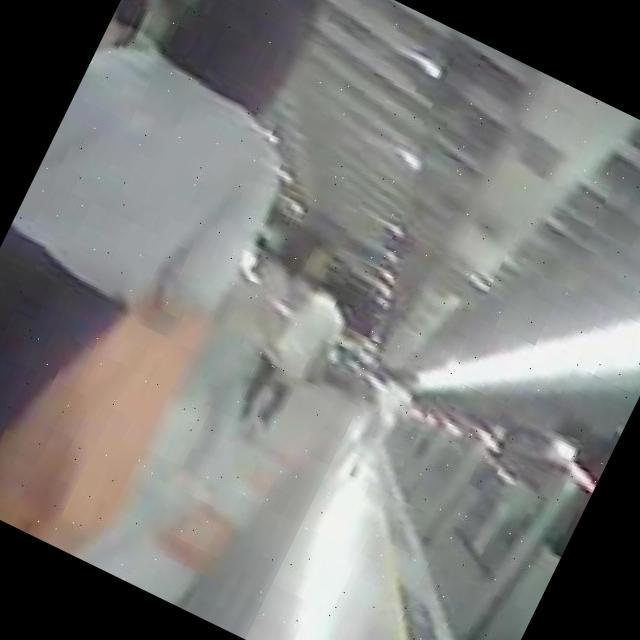person: (0, 0, 366, 563), (138, 206, 348, 516), (223, 266, 364, 454), (340, 354, 432, 488)
